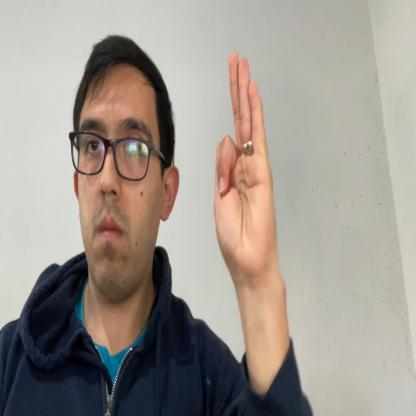F: (214, 50, 278, 274)
